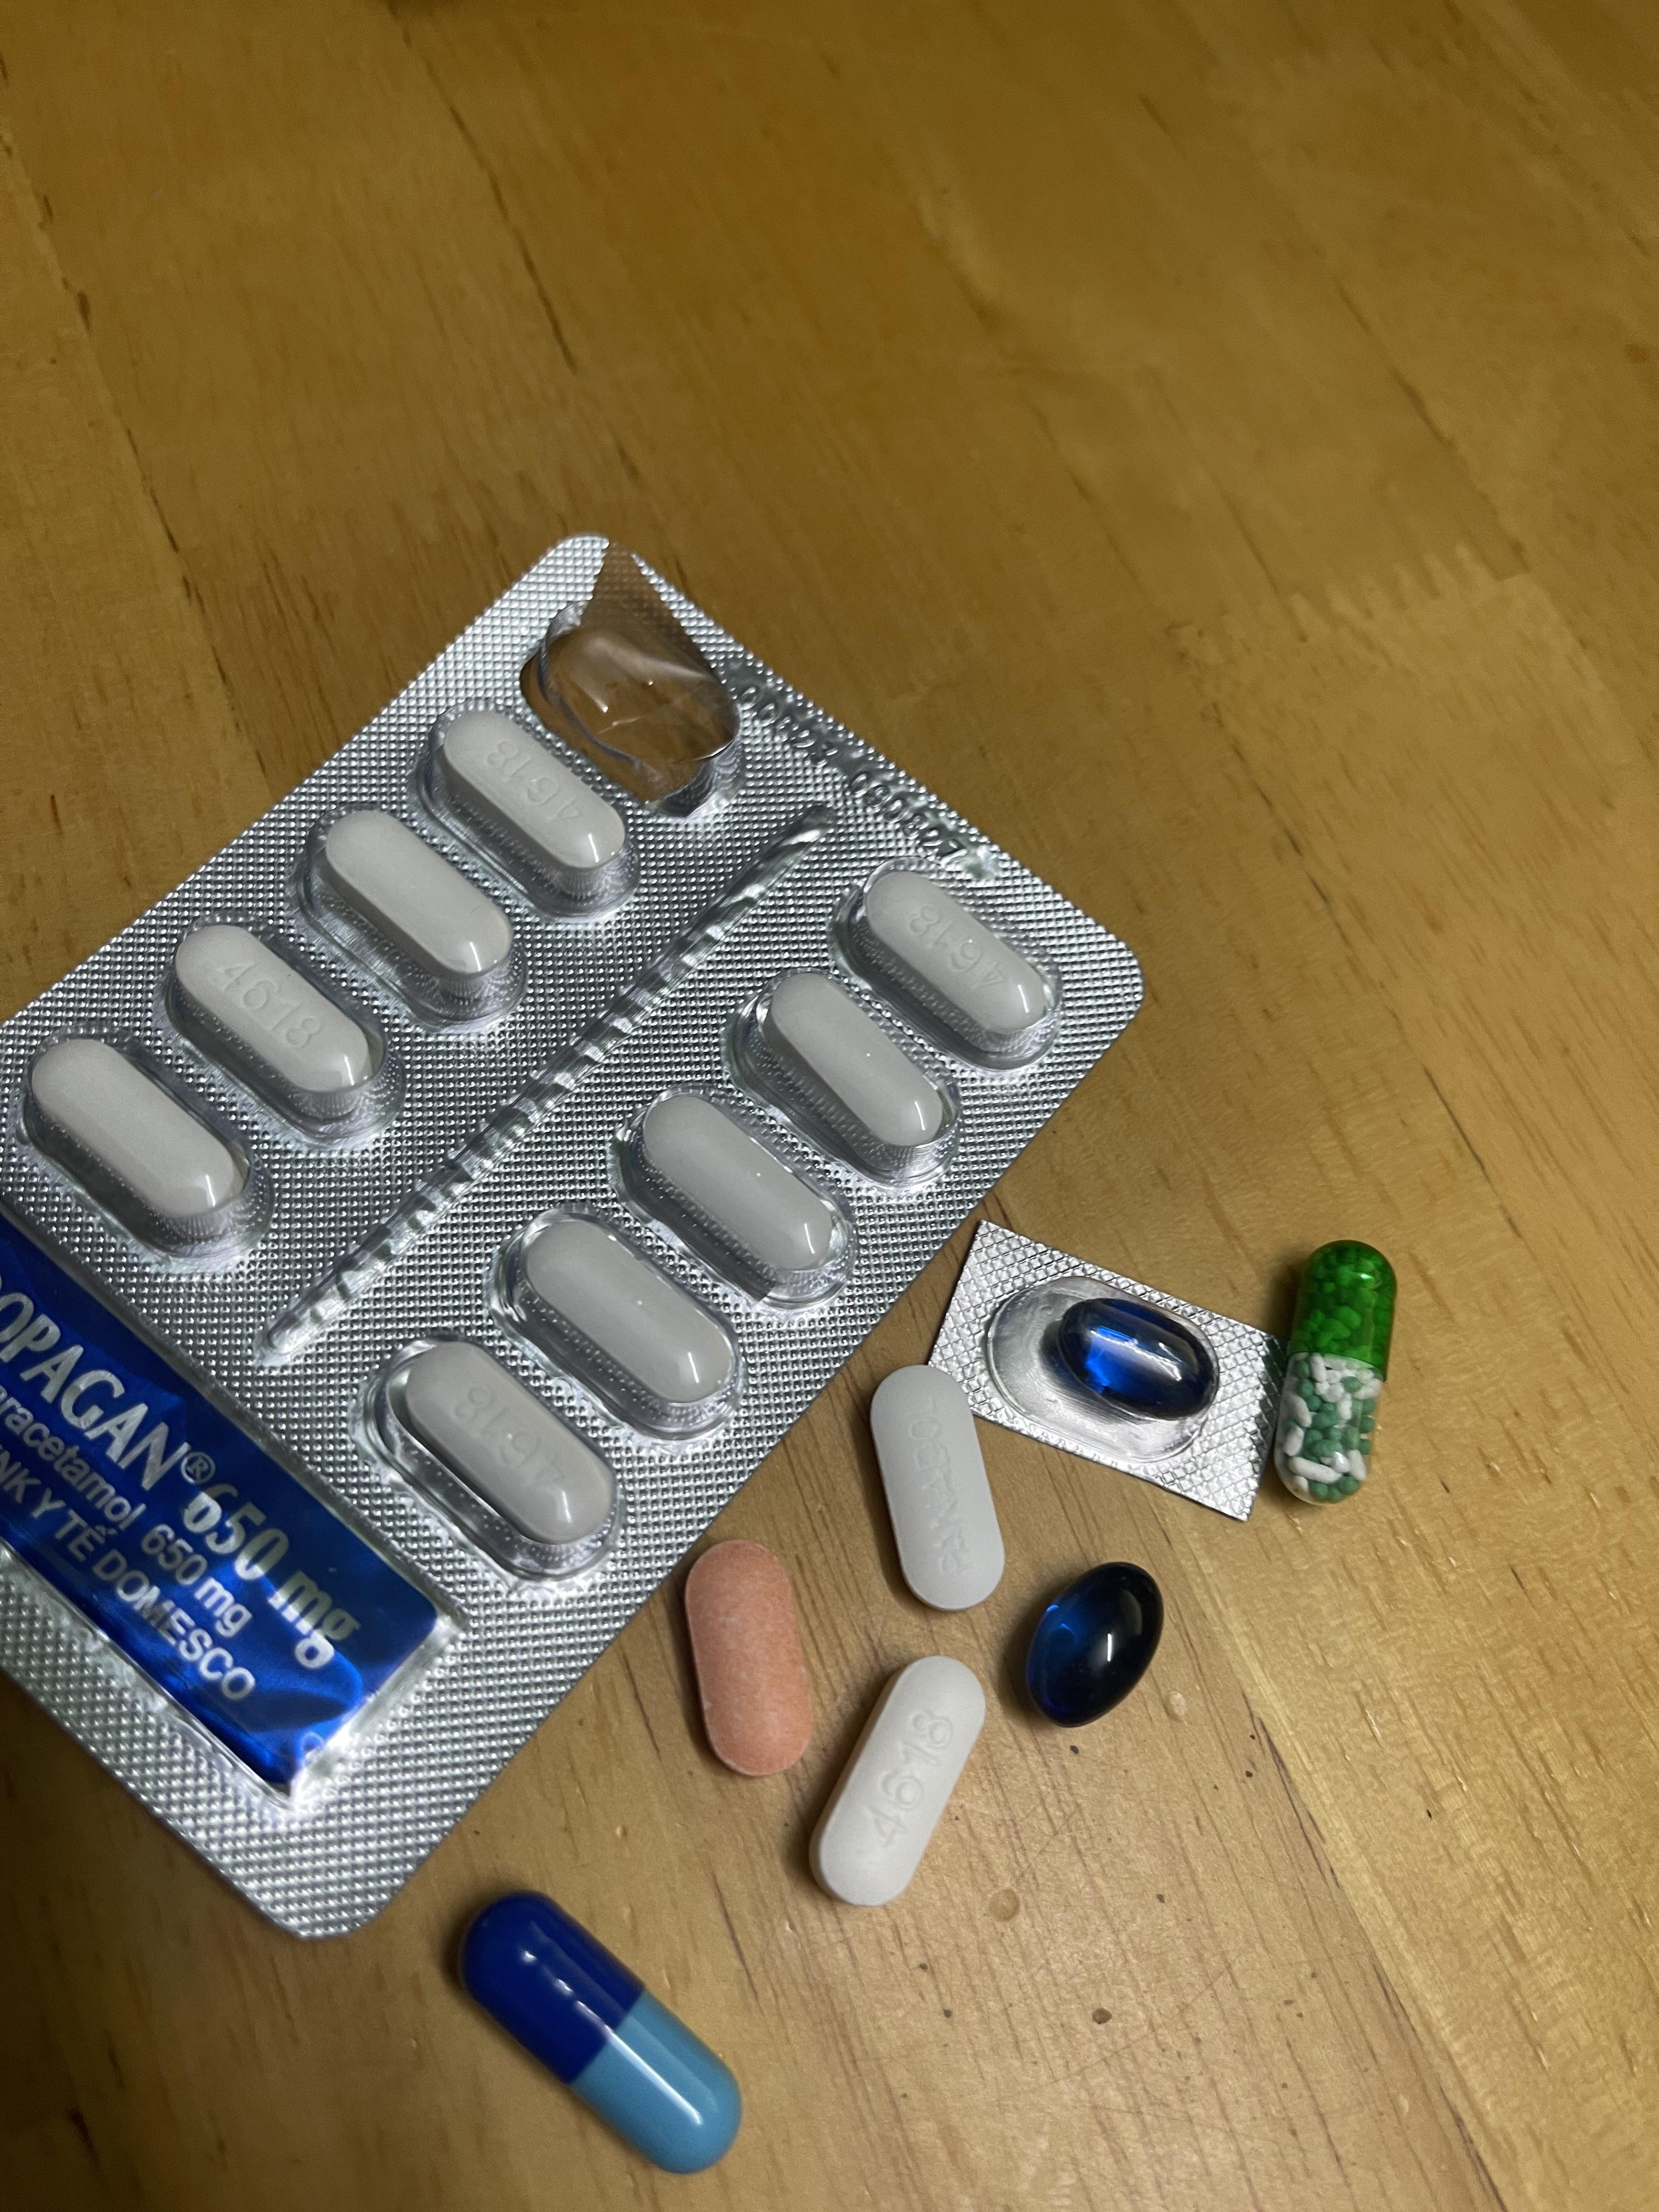Lincomyxin_500mg: (1025, 1568, 1159, 1726), (1054, 1306, 1209, 1414)
Loratadine_10mg: (685, 1541, 816, 1771)
Paracetamol_350mg: (868, 1367, 1007, 1613)
Paracetamol_500mg: (619, 1080, 859, 1305), (380, 1336, 610, 1557), (835, 860, 1061, 1069), (173, 923, 382, 1129), (516, 1219, 734, 1416), (28, 1038, 249, 1230), (812, 1660, 985, 1904), (429, 709, 631, 906), (315, 812, 518, 1003), (760, 970, 943, 1160)
Paracetamol_650mg: (1277, 1247, 1394, 1496)
pill: (467, 1905, 737, 2167)
